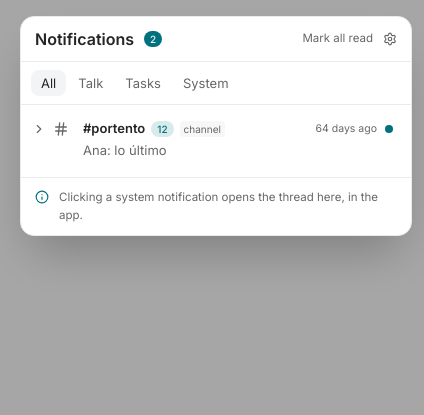
Test case: plegar lo del mismo sitio › y al abrirlo dice cuántos se están viendo
This screenshot has width=424, height=415.
What coordinates should you click on to do the following:
click the button named "Expand "
I would click on:
 (39, 129)
Its box is left=29, top=119, right=49, bottom=139.
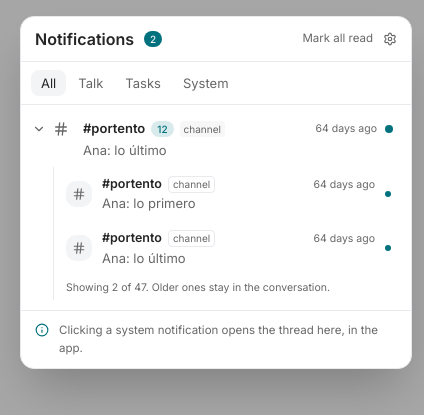
Result: the text "Showing 2 of 47. Older ones stay in the conversation." is shown at left=66, top=281, right=330, bottom=294
